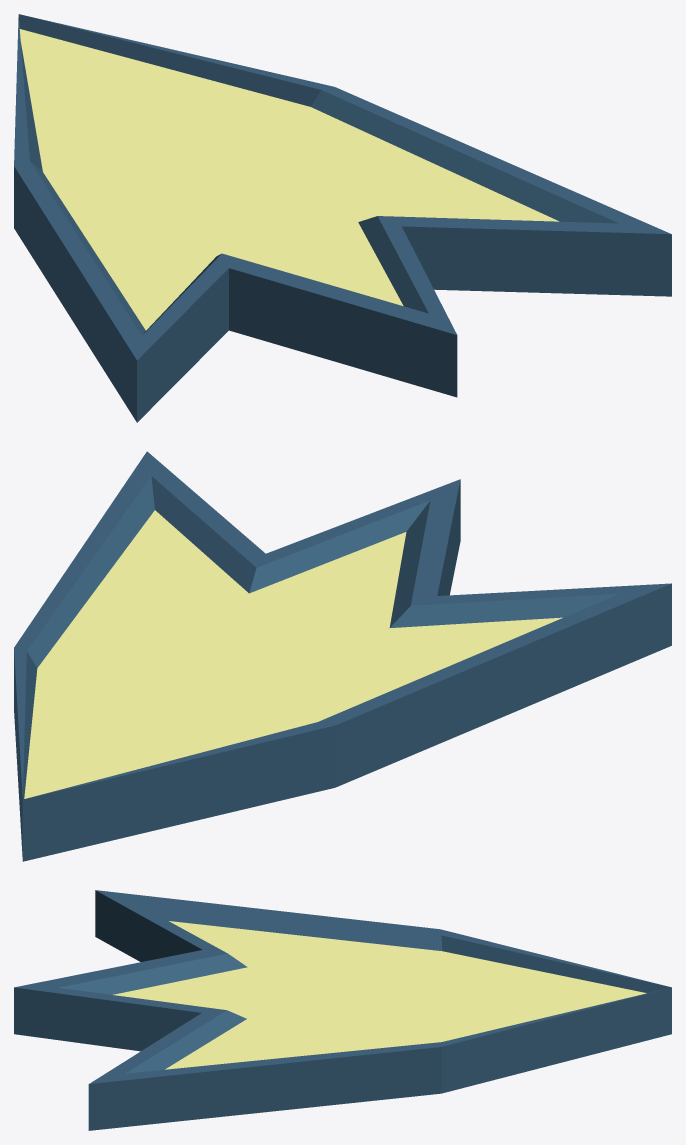
File: fin.fbx
3 views of the same model, one above another, from view 1: azimuth 30°, elevation 25°; view 2: azimuth 150°, elevation 25°; view 3: azimuth 270°, elevation 25° (orthographic). The views are drawn at different scales.
Visible parts, largest first — view 1: Mesh; view 2: Mesh; view 3: Mesh.
Part boxes in pixels (box(x1,y1,x2,y2)): Mesh: box(14, 14, 671, 422); Mesh: box(14, 451, 671, 861); Mesh: box(14, 890, 671, 1130).
Size of the model in its own units: 0.7569 by 0.0851 by 1.08.
